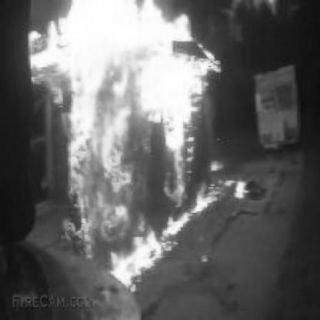Fire: (0, 0, 272, 287)
